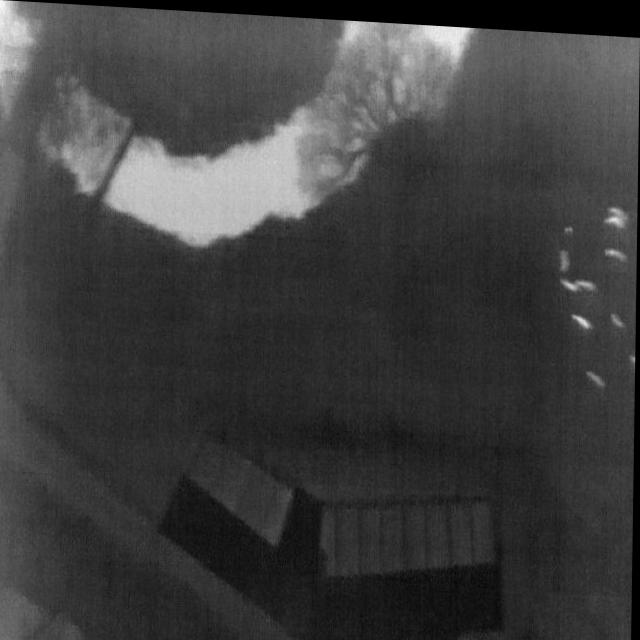deer: (571, 307, 595, 323), (604, 207, 629, 221), (558, 242, 571, 268), (607, 198, 631, 212), (605, 240, 628, 254), (587, 363, 607, 379), (560, 271, 581, 285), (575, 272, 597, 285), (610, 306, 627, 321), (629, 347, 636, 356)
